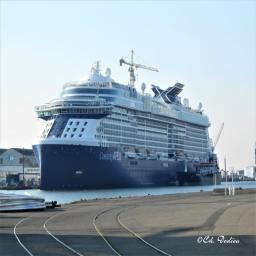cruises: (32, 54, 228, 188)
